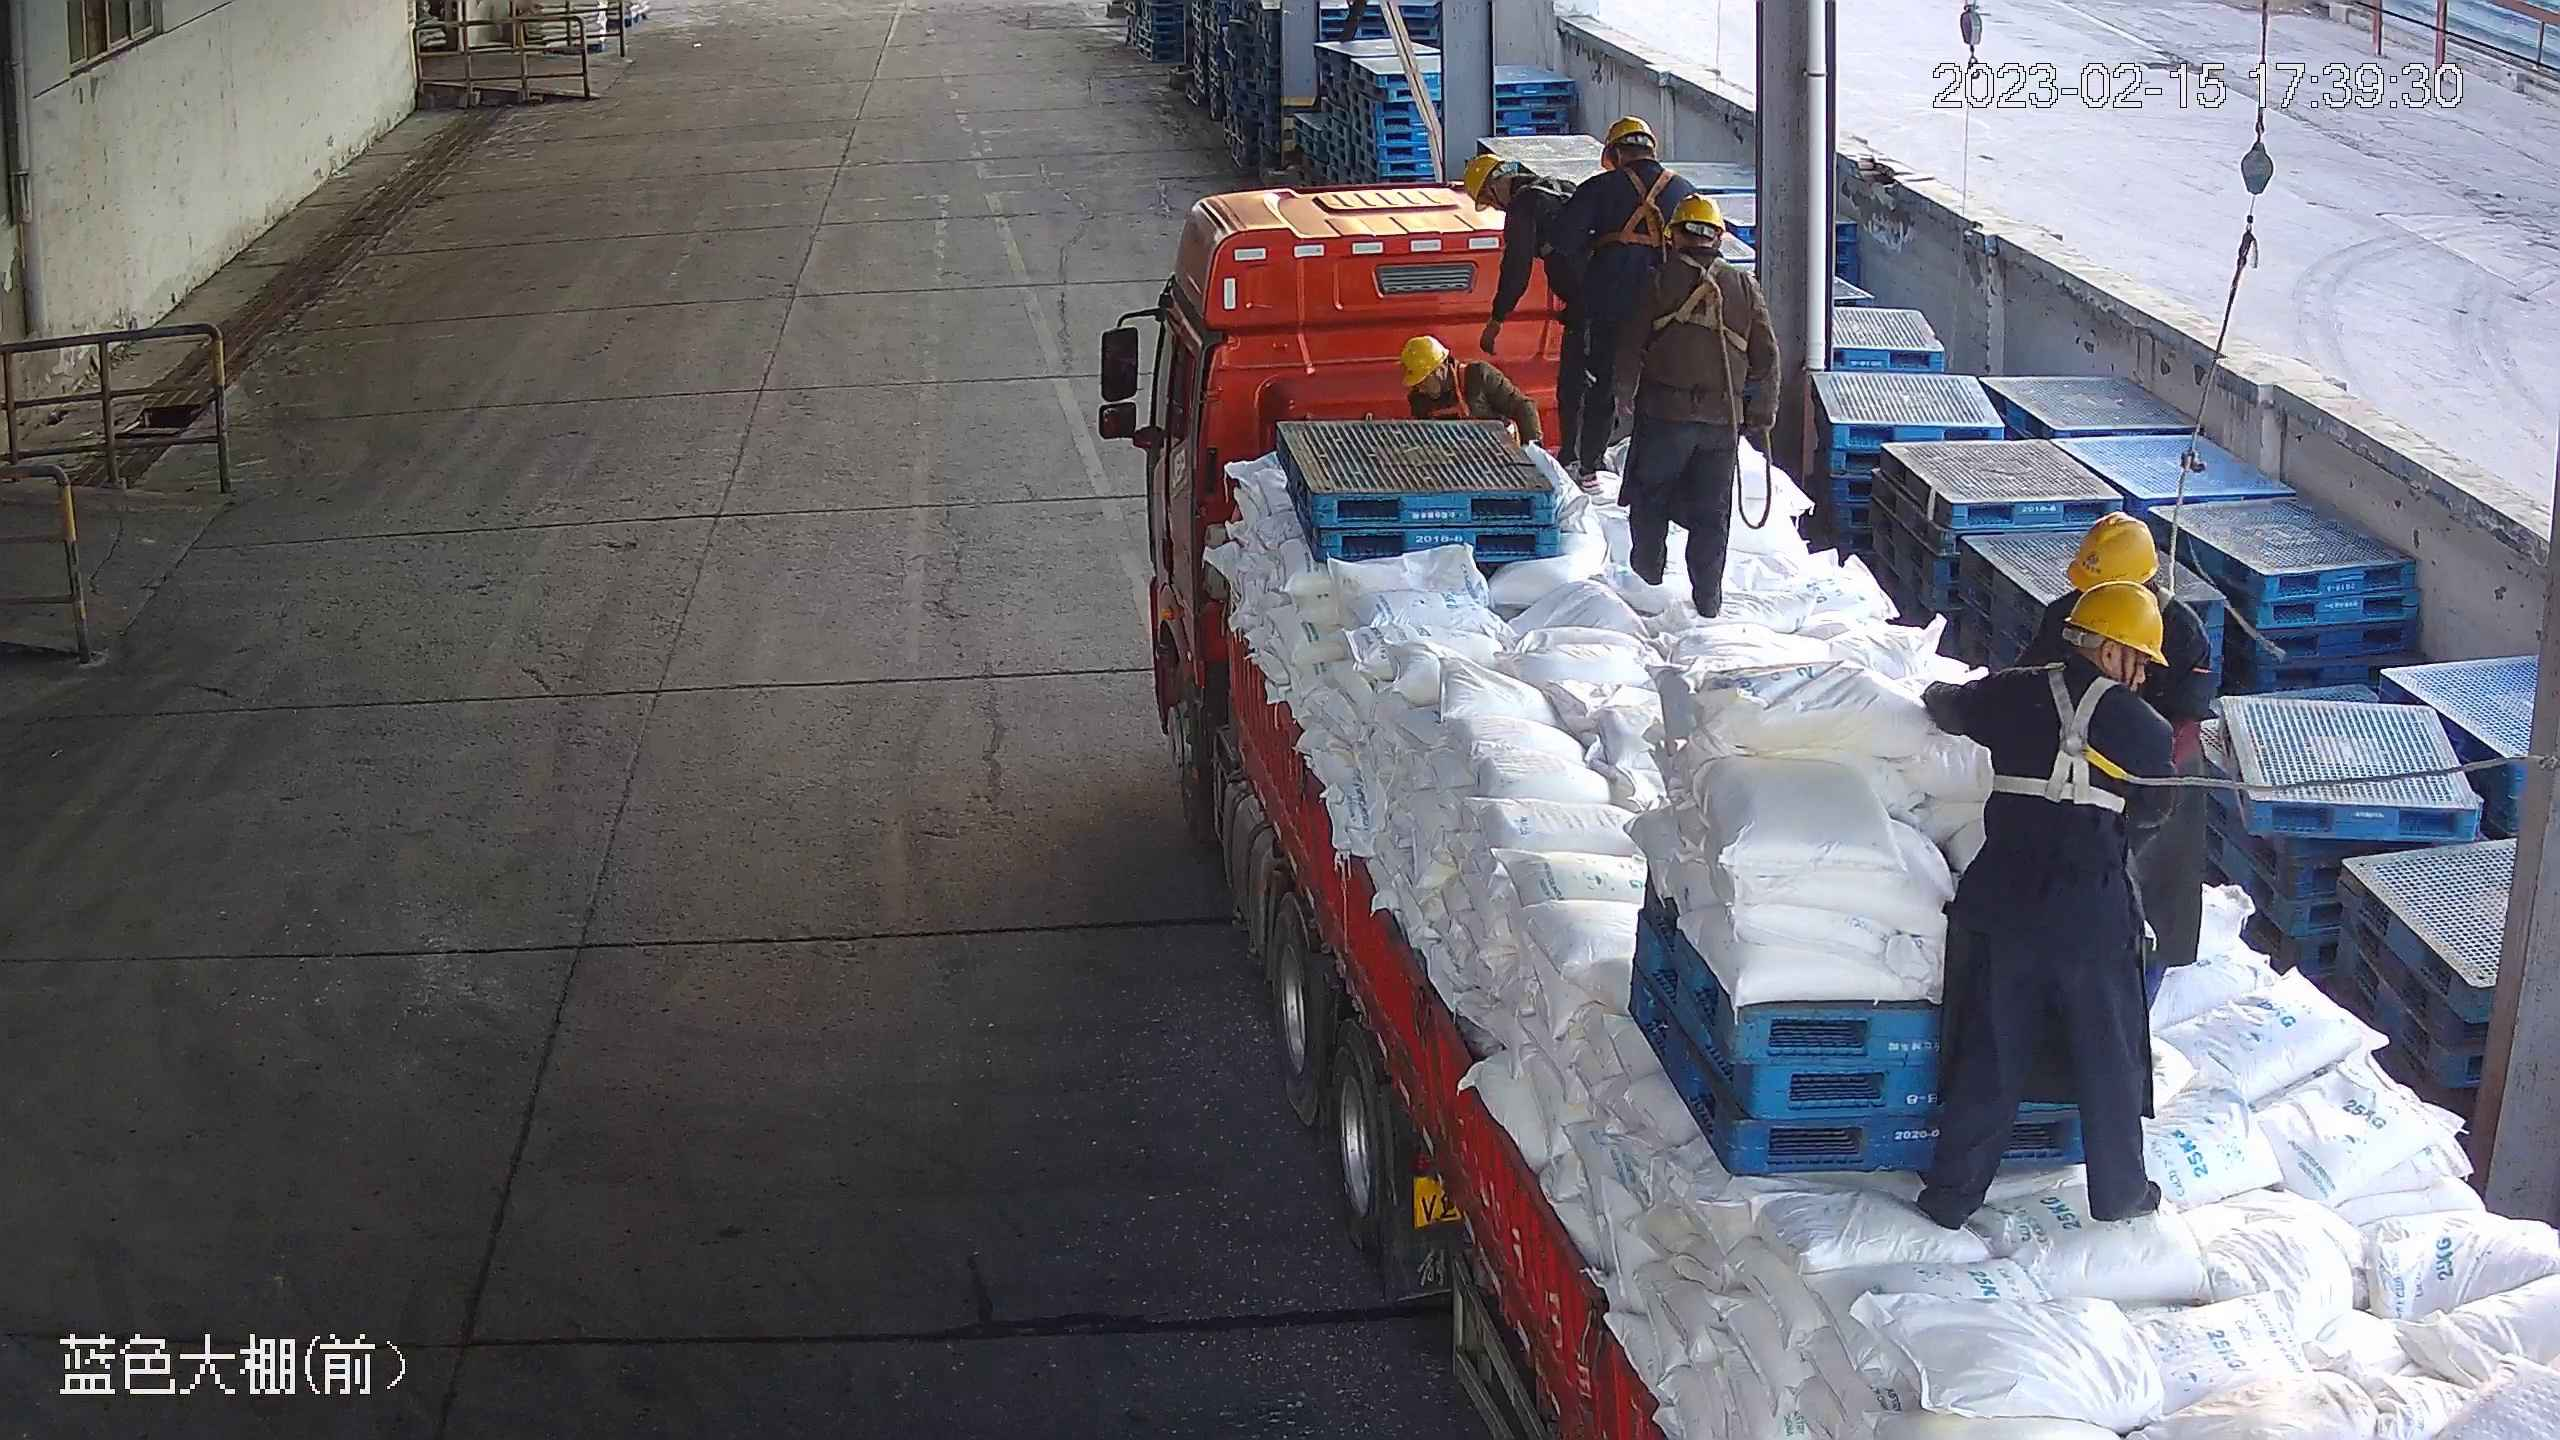belt: (1989, 660, 2196, 815), (1649, 252, 1753, 351), (1587, 162, 1680, 251), (1506, 169, 1575, 257), (1417, 365, 1487, 422)
head: (1975, 578, 2176, 750), (1571, 114, 1707, 212), (1639, 193, 1760, 296), (1466, 153, 1587, 223), (1397, 332, 1509, 398)
helmet: (2062, 580, 2172, 670), (2063, 510, 2162, 594), (1601, 114, 1658, 170), (1399, 334, 1452, 387), (1663, 193, 1726, 238), (1464, 153, 1504, 213)
people: (1922, 577, 2180, 1232), (1609, 193, 1783, 619), (1548, 109, 1719, 497)
truck: (1141, 180, 2560, 1439)
